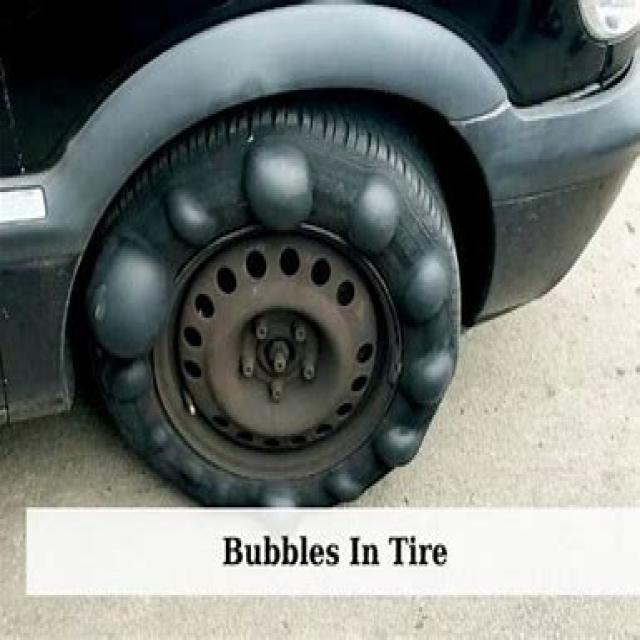Bulge: (88, 245, 168, 414), (240, 136, 314, 245), (343, 165, 401, 262), (145, 419, 206, 502), (402, 248, 454, 338), (164, 183, 223, 258), (407, 340, 458, 411), (379, 424, 426, 471), (325, 459, 367, 506)
